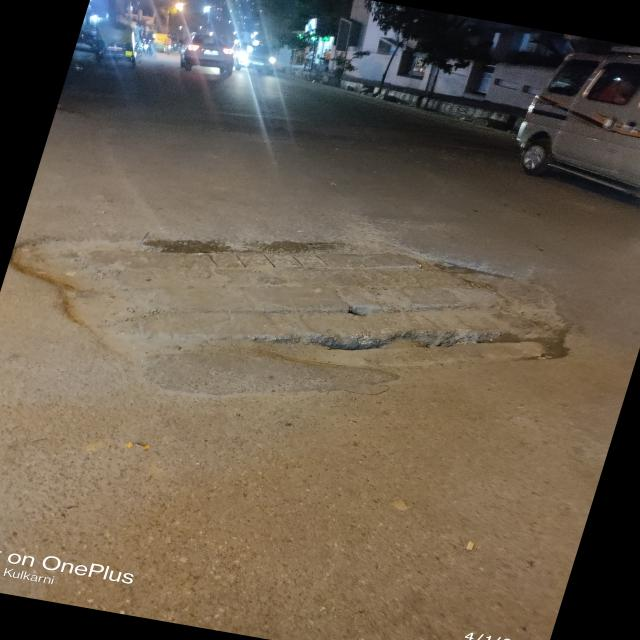potholes: (25, 232, 589, 395)
